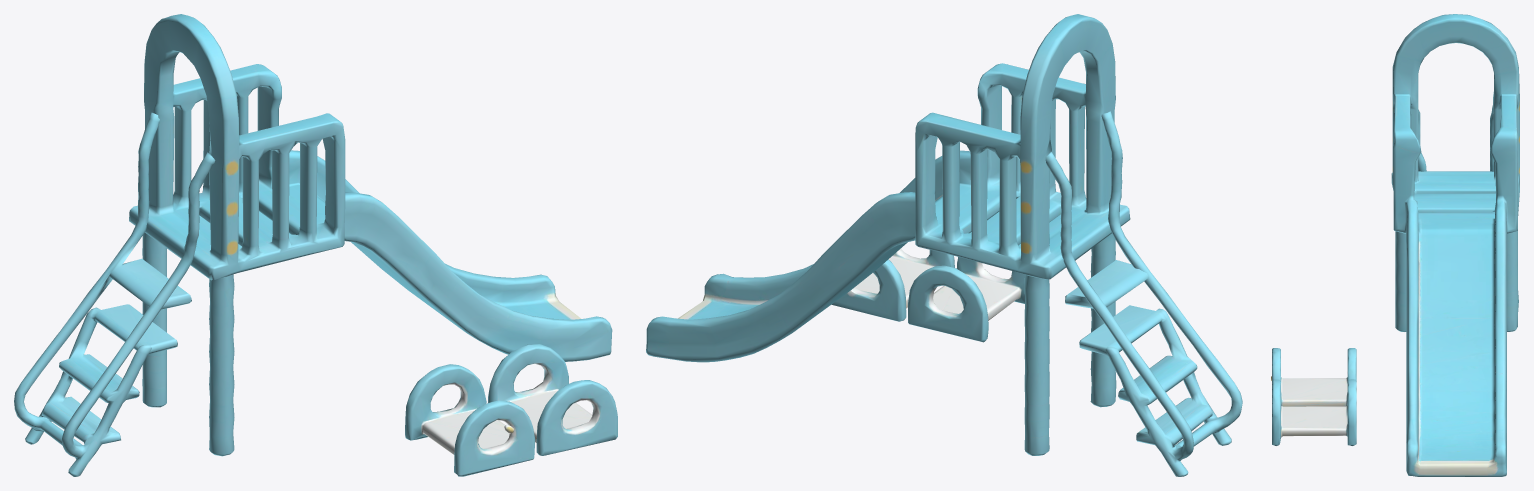
The model's file is meshy_playground_slide.glb.
3 views of the same model, side by side, from view 1: azimuth 30°, elevation 25°; view 2: azimuth 150°, elevation 25°; view 3: azimuth 270°, elevation 25° (orthographic). The views are drawn at different scales.
Bounding box in the file's own units: 1.91 × 1.37 × 0.9785.
Materials: 1 (1 with a texture image).
